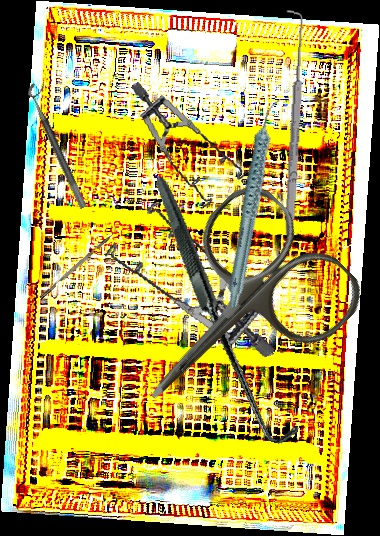Chopper: (36, 225, 120, 300)
Fixation Ring: (25, 79, 97, 210)
Handpiece: (186, 96, 323, 310)
Hook Surgical: (93, 175, 358, 449), (274, 9, 309, 237)
Iris Scissors: (90, 173, 373, 457)
Speculum: (94, 183, 275, 391), (131, 69, 252, 215)
